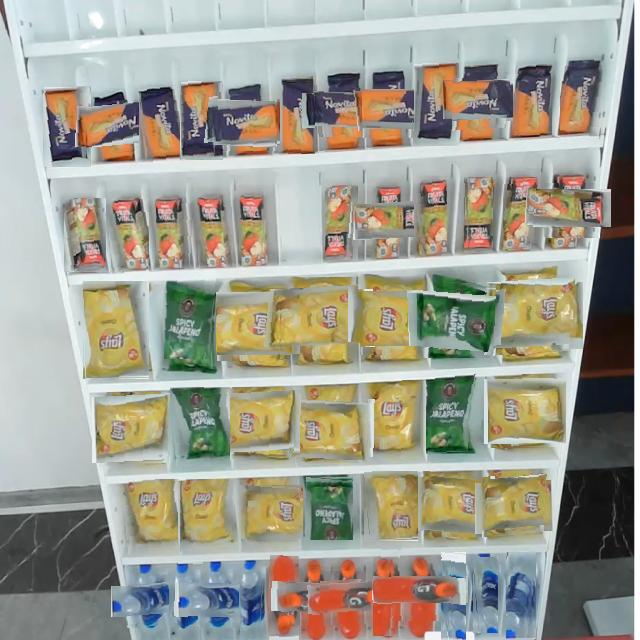Plastic: (280, 277, 362, 359), (493, 275, 576, 356), (82, 282, 149, 379), (417, 279, 496, 358), (217, 286, 294, 361), (97, 392, 172, 467), (358, 281, 432, 355), (488, 374, 562, 448), (222, 387, 295, 460), (296, 392, 368, 463), (170, 388, 230, 468), (164, 274, 217, 359), (368, 380, 423, 460), (423, 472, 489, 538), (121, 479, 178, 555), (482, 473, 547, 538), (426, 372, 476, 454), (180, 479, 236, 552), (43, 86, 91, 167), (363, 471, 418, 541), (413, 63, 459, 146), (390, 559, 451, 621), (560, 58, 606, 139), (538, 178, 600, 238), (241, 483, 301, 542), (288, 566, 347, 626), (106, 193, 149, 275), (218, 92, 277, 151), (452, 72, 511, 131), (188, 569, 247, 628), (362, 80, 420, 138), (182, 81, 224, 160), (313, 80, 371, 137), (139, 85, 180, 163), (86, 100, 143, 156), (363, 194, 419, 251), (64, 198, 106, 272), (305, 476, 353, 540), (122, 574, 177, 629), (320, 571, 375, 626), (513, 64, 552, 138), (156, 193, 194, 268), (195, 195, 232, 267), (414, 176, 447, 256), (170, 560, 203, 640), (506, 551, 536, 639), (374, 543, 402, 636), (280, 80, 315, 154), (269, 554, 299, 640), (325, 185, 358, 262), (503, 177, 537, 250), (440, 551, 466, 640), (463, 176, 493, 253), (239, 188, 266, 266), (240, 556, 265, 640), (472, 555, 498, 633)
